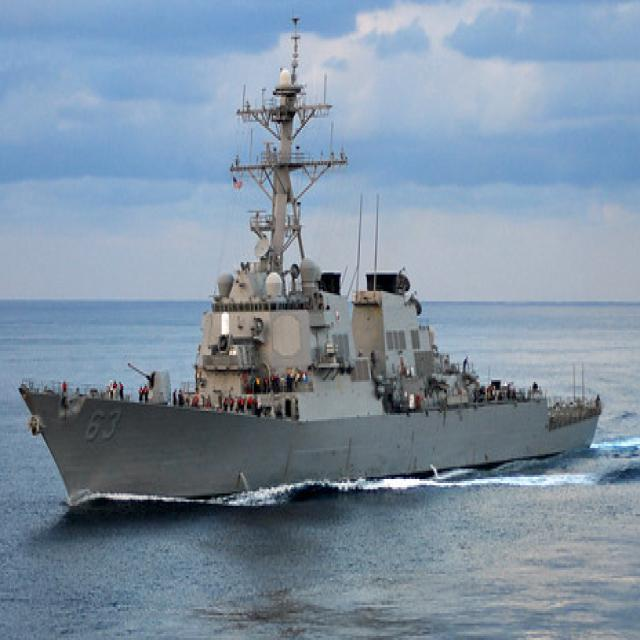navalvessels: (7, 24, 612, 509)
